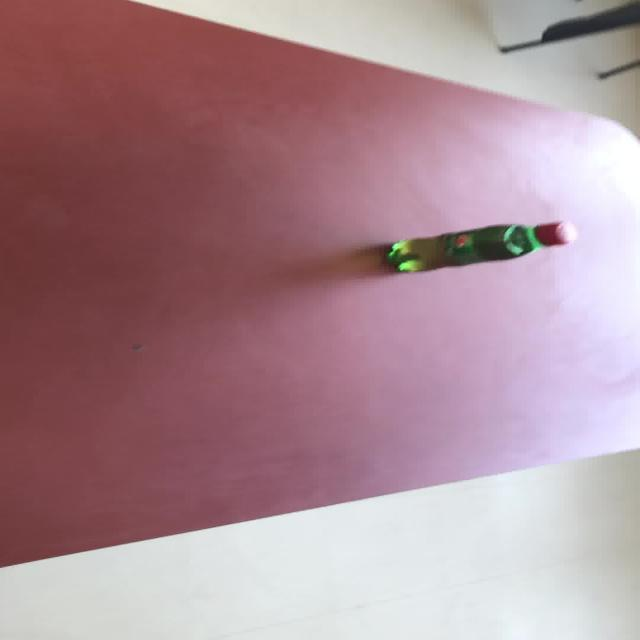guarana: (384, 218, 576, 273)
